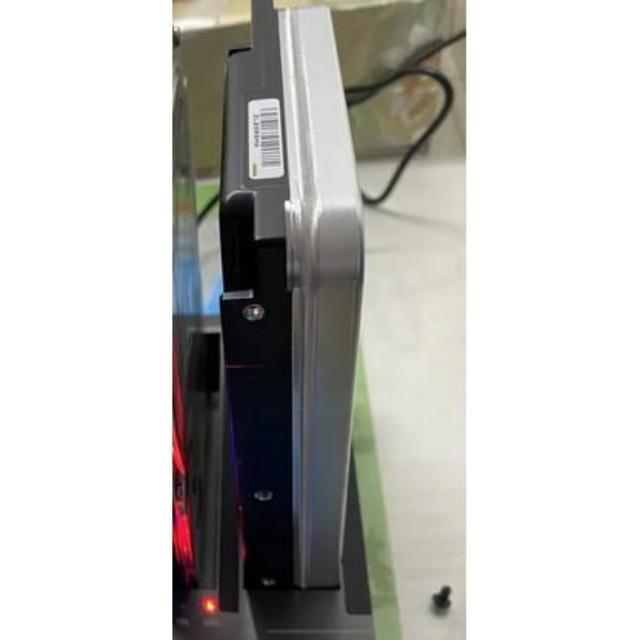DISK: (198, 0, 378, 606)
